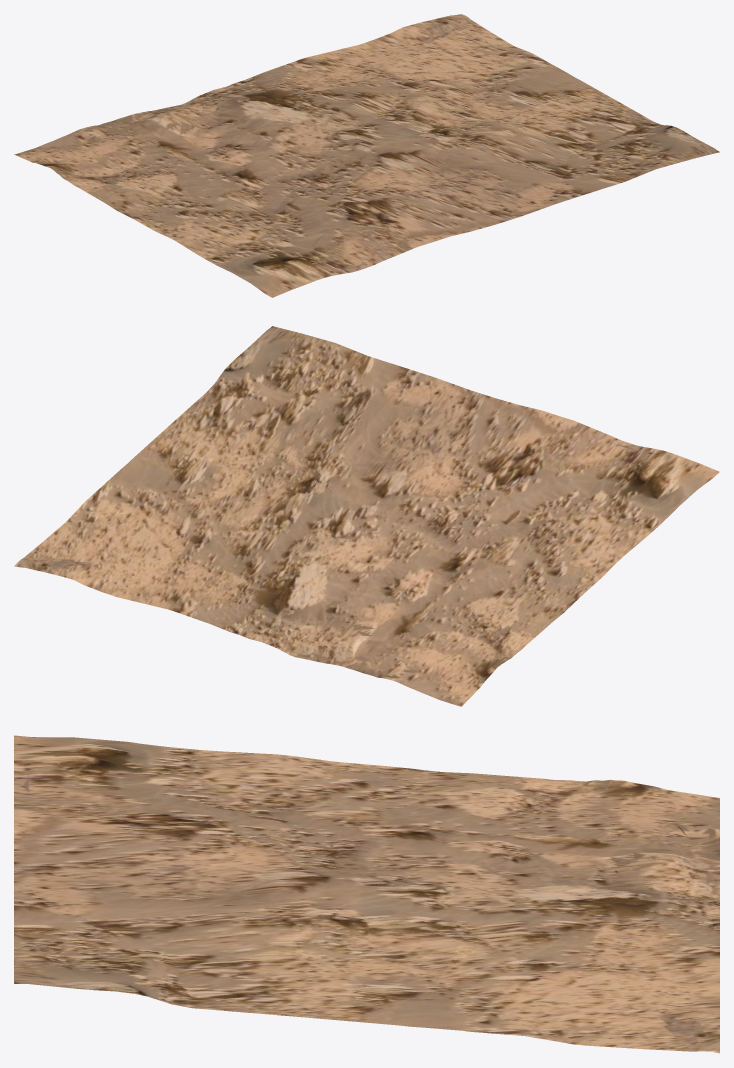
3 renders of one model, top to bottom at view 1: azimuth 30°, elevation 25°; view 2: azimuth 150°, elevation 25°; view 3: azimuth 270°, elevation 25°, orthographic. The views are drawn at different scales.
Bounding box in the file's own units: 2.09 × 0.3677 × 2.09.
Materials: 2 (2 with a texture image).
